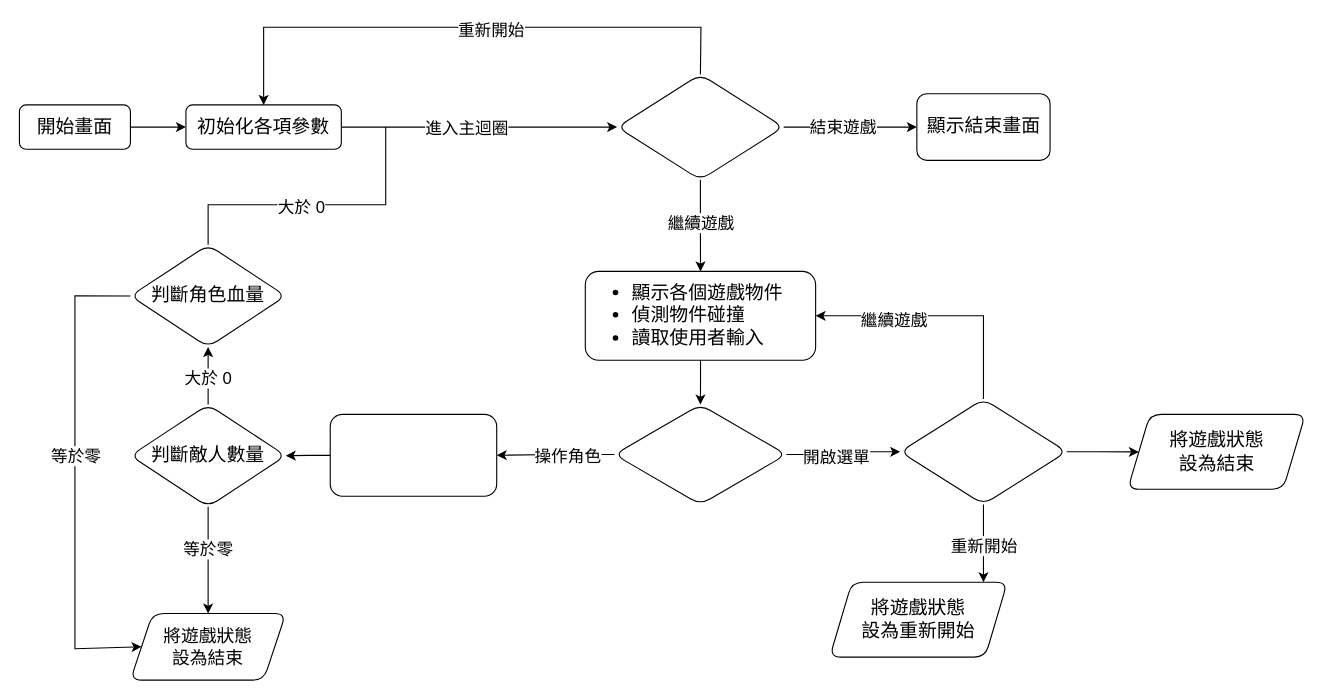
Some shapes in this 1325 by 700 pixel diagram are drawn without their labels. The shapes that lost their labels are listed below. From the top down, each one's centre as x and y in pixels, then its label:
the point at 700,126: 判斷遊戲 目前的狀態
the point at 413,454: 左右移動 發射子彈
the point at 699,453: 判斷讀入 的按鍵
the point at 983,451: 選擇遊戲選項
